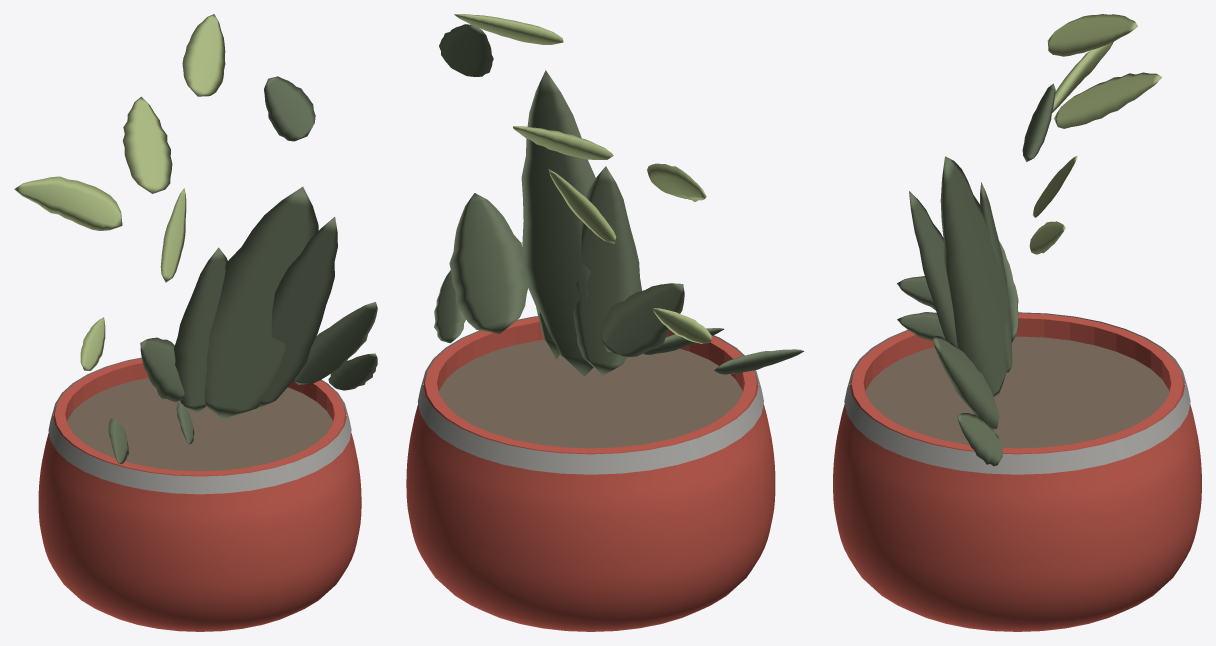
Rendered from NPR_25_1014__MOD__GardenFurniture__PlantersAndPots__PottedPlant__Var-04__.glb.
3 renders of one model, left to right at view 1: azimuth 30°, elevation 25°; view 2: azimuth 150°, elevation 25°; view 3: azimuth 270°, elevation 25°, orthographic. The views are drawn at different scales.
Parts seen in each view (by area): view 1: NPR_25_1014__MOD__GardenFurniture__PlantersAndPots__PottedPl; view 2: NPR_25_1014__MOD__GardenFurniture__PlantersAndPots__PottedPl; view 3: NPR_25_1014__MOD__GardenFurniture__PlantersAndPots__PottedPl.
Boxes of the visible parts, bbox=[...] form: NPR_25_1014__MOD__GardenFurniture__PlantersAndPots__PottedPl: bbox=[14, 14, 377, 631]; NPR_25_1014__MOD__GardenFurniture__PlantersAndPots__PottedPl: bbox=[406, 14, 803, 631]; NPR_25_1014__MOD__GardenFurniture__PlantersAndPots__PottedPl: bbox=[833, 14, 1201, 631].
Size of the model in its own units: 0.5877 by 0.9741 by 0.55.
